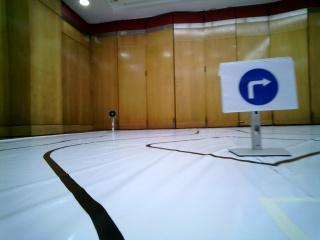right: (218, 64, 299, 109)
